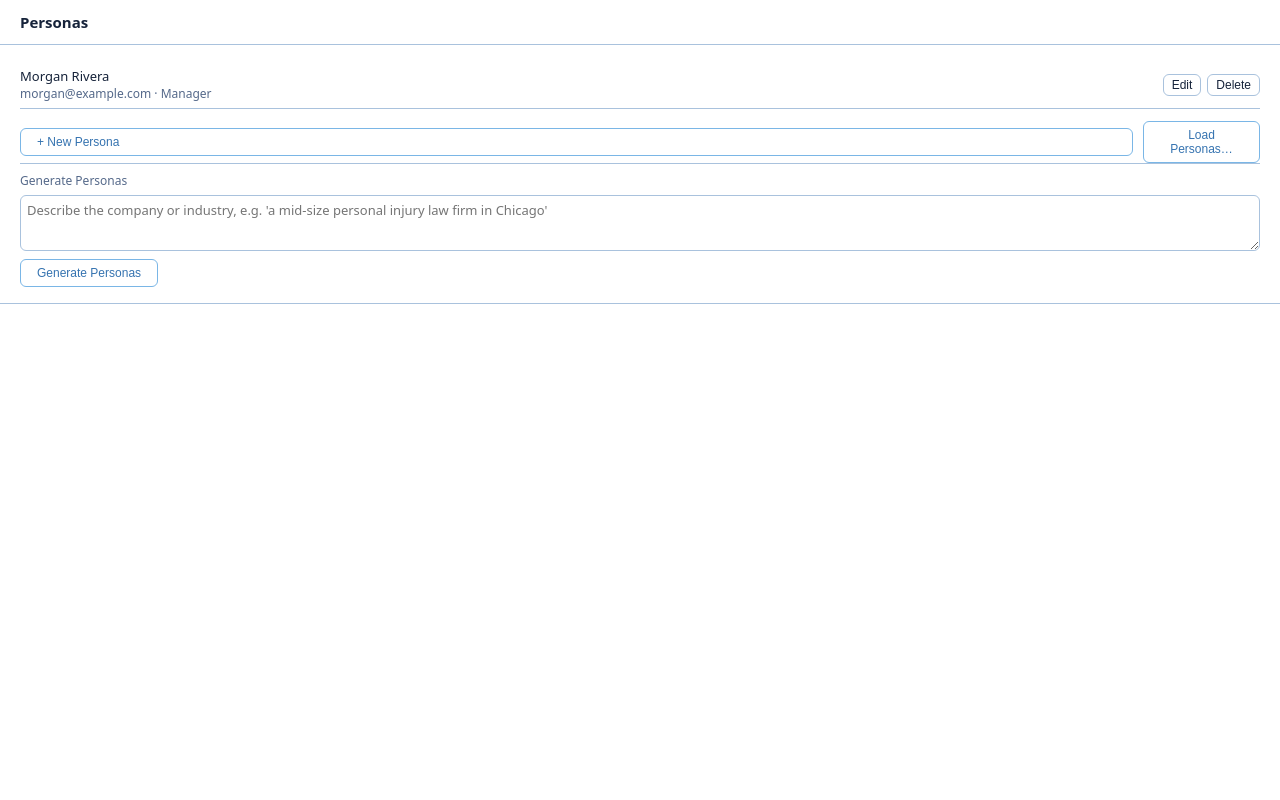
Scenario: PersonasSettings › Edit prefills the form with the existing persona, and Save persists the edit in place
This screenshot has width=1280, height=800.
Click the button "Edit" at (1182, 84), box [1163,74,1201,96]
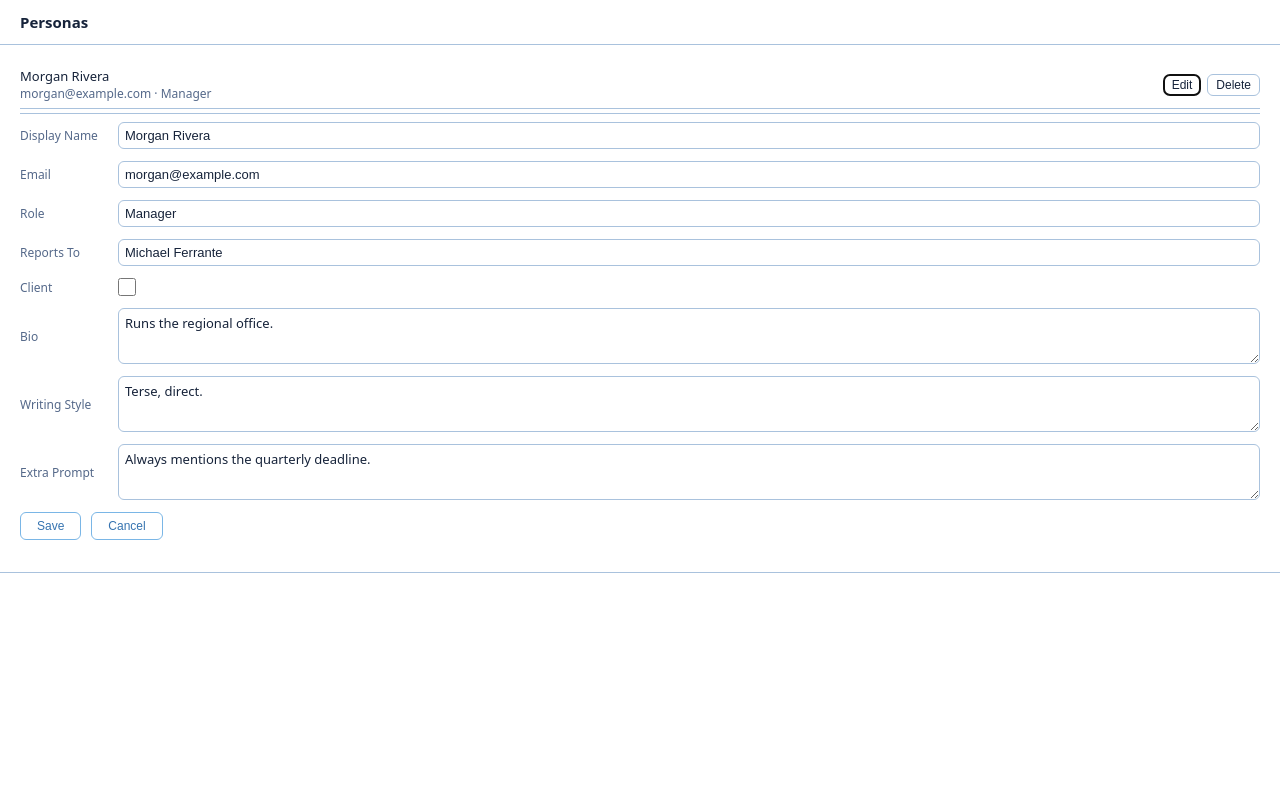
Check: the field labelled "Display Name" holds "Morgan Rivera", box [118,122,1260,149]
Check: the field labelled "Email" holds "morgan@example.com", box [118,161,1260,188]
Check: the field labelled "Role" holds "Manager"
Replace the text in the field labelled "Role" with "Senior Manager" at (689, 214), box [118,200,1260,227]
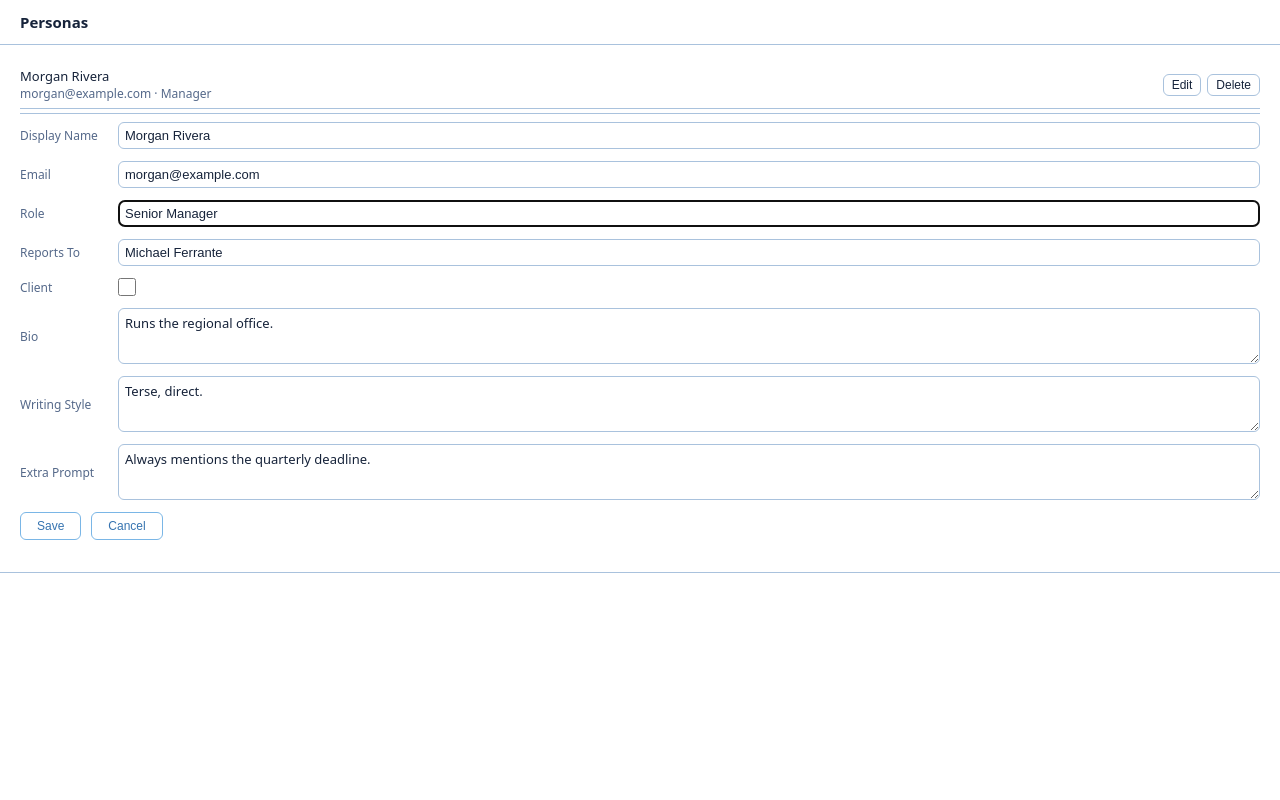
Click the button "Save" at (51, 526), box [20,512,81,540]
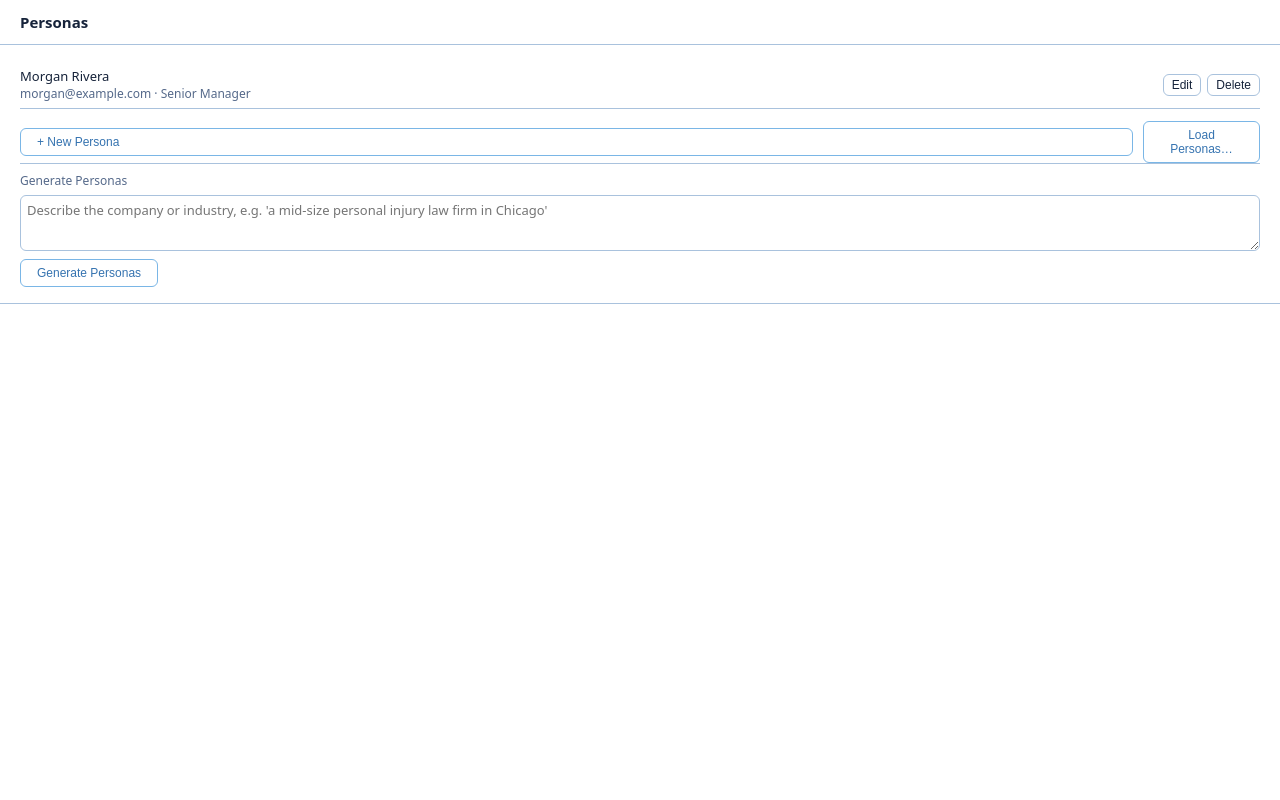
Check: the text "morgan@example.com · Senior Manager" is shown, box [20,85,251,102]
